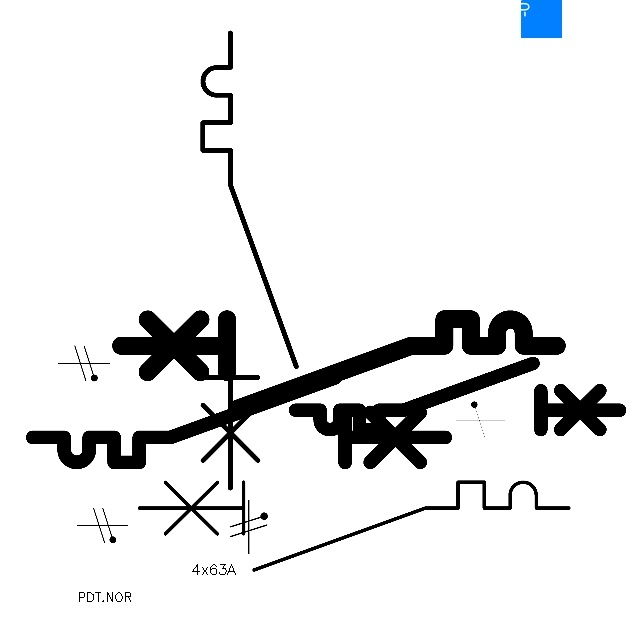interruptor_termomagnetico: (191, 21, 308, 500), (109, 308, 567, 420), (128, 471, 580, 581), (22, 367, 456, 473), (287, 355, 628, 438)
